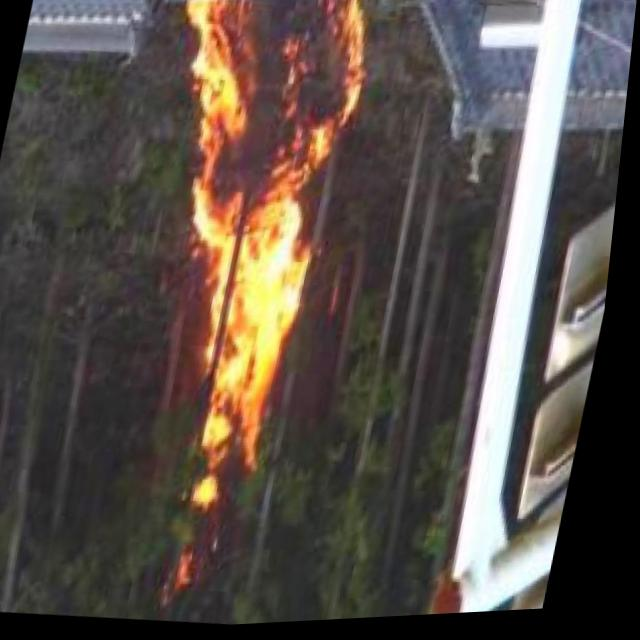Fire: (100, 0, 381, 486)
